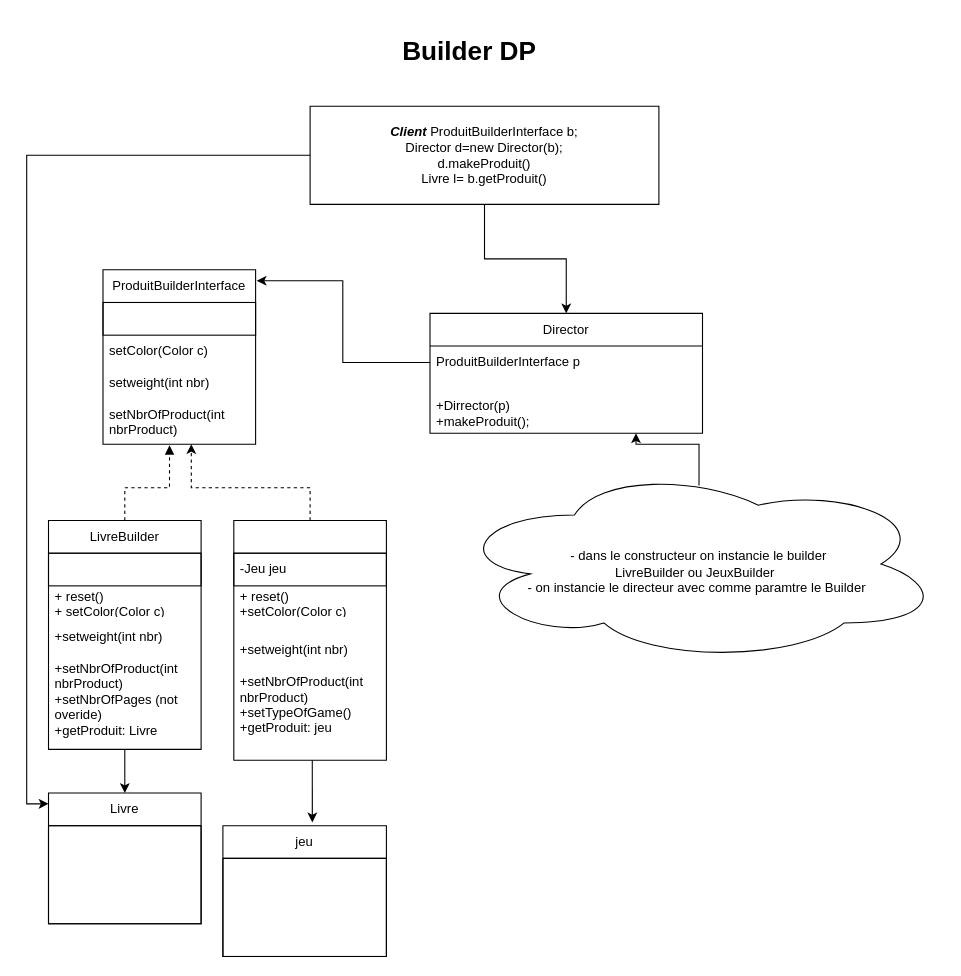
Image size: 961x976. Some labels were removed from this diagram. Here are the shapes that lost their labels. From the top down, the box of each, then its label:
(47, 552, 201, 586): - Livre livre
(233, 519, 386, 760): JeuxBuilder
(47, 825, 201, 924): - Color color - Integer NbrOfPages - Integer weight - Integer nbrOfProduct
(222, 857, 386, 956): - Color color - Integer nbrOfProduct - Integer weight - String TypeOfGame
